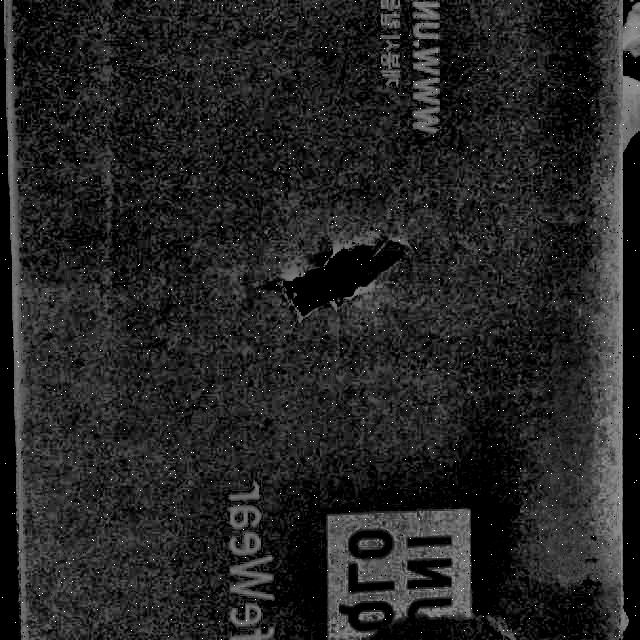box: (1, 1, 629, 640)
hole: (272, 246, 404, 314)
